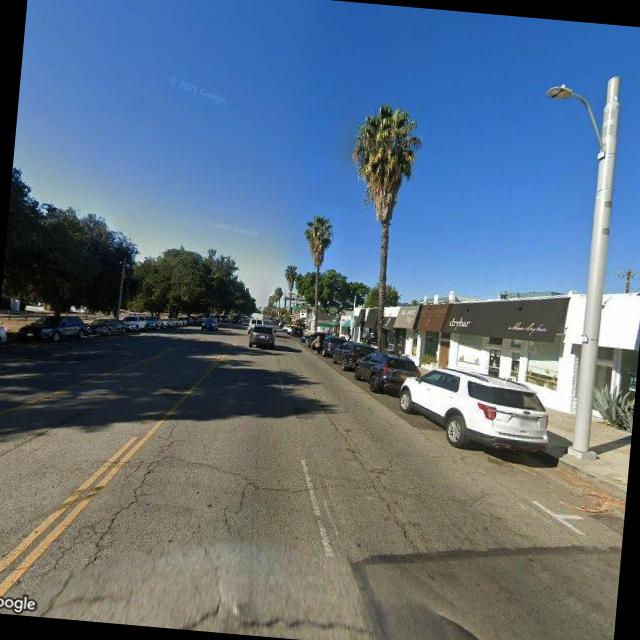crack: (36, 408, 186, 591), (154, 446, 356, 501)
